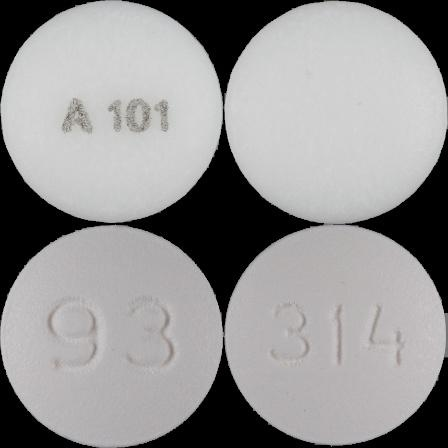63187-124: (0, 0, 224, 224)
